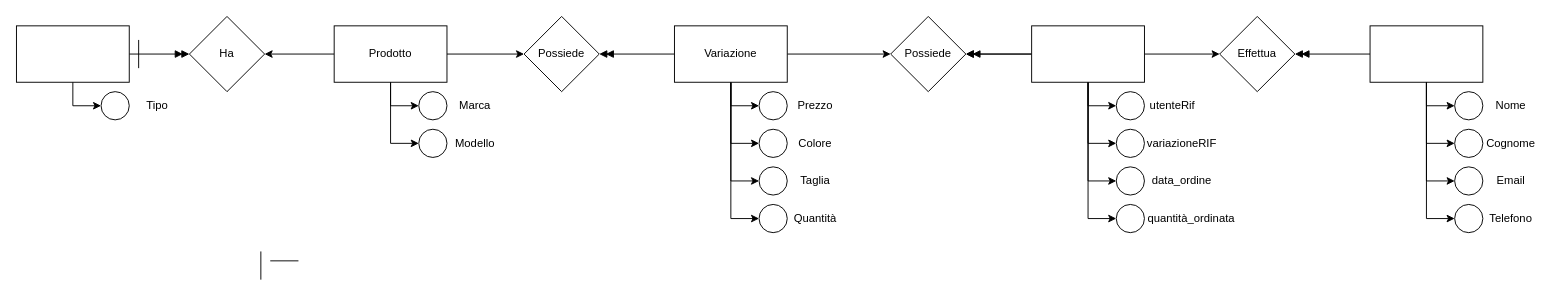
Some shapes in this 1556 by 297 pixel diagram are drawn without their labels. The centre of each missing label's shape, as x and y in pixels:
Categoria: point 72,53
Ordine: point 1087,53
Utente: point 1426,53
